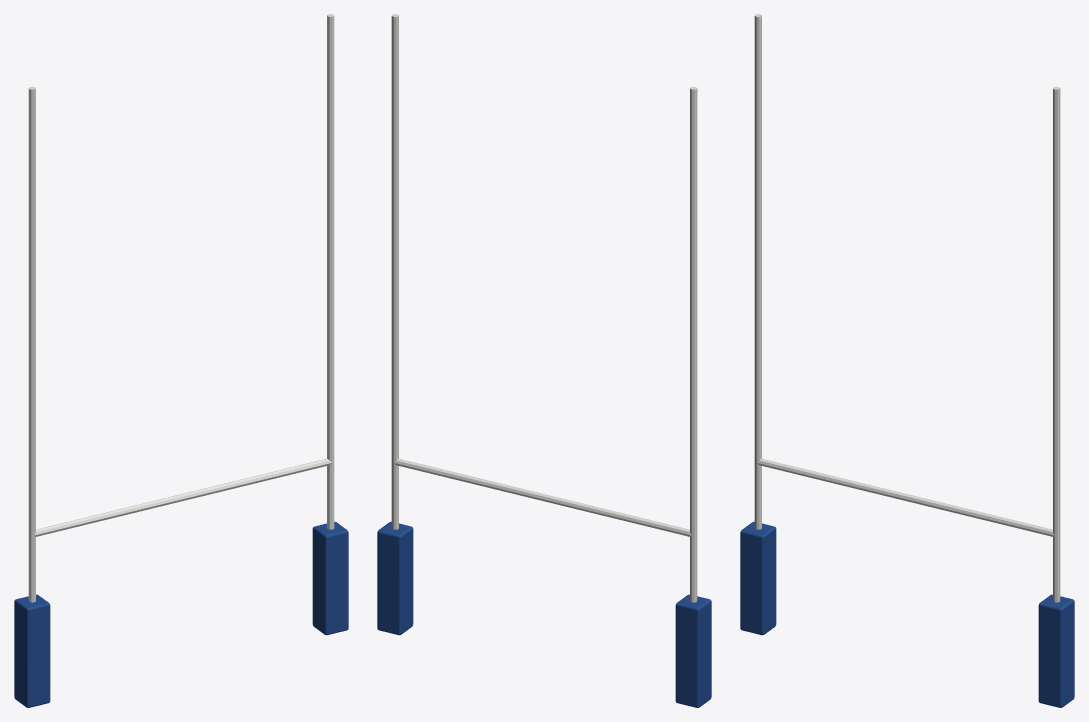
Rendered from sport.pitch.rugby_posts_padded.glb.
3 views of the same model, side by side, from view 1: azimuth 30°, elevation 25°; view 2: azimuth 150°, elevation 25°; view 3: azimuth 330°, elevation 25° (orthographic).
Parts seen in each view (by area): view 1: main__paint_ddd, main__paint_259; view 2: main__paint_ddd, main__paint_259; view 3: main__paint_ddd, main__paint_259.
Boxes of the visible parts, x1,y1,x2,y2 form: main__paint_ddd: (28,14,334,602); main__paint_259: (14,521,348,707); main__paint_ddd: (391,14,697,602); main__paint_259: (377,521,711,707); main__paint_ddd: (754,14,1060,602); main__paint_259: (740,521,1074,707).
Bounding box in the file's own units: 6.05 × 11 × 0.45.
